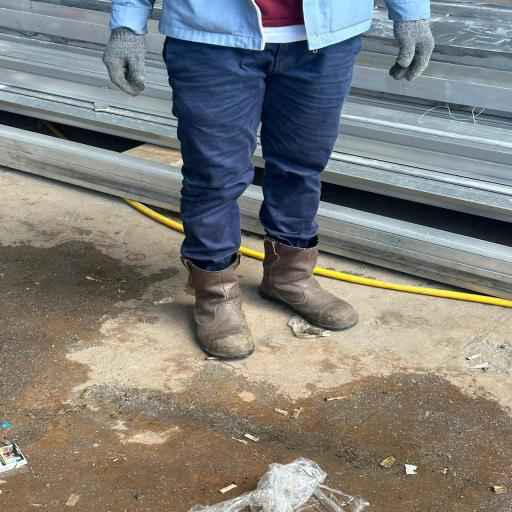safety_shoe: (251, 221, 368, 335), (164, 252, 267, 366)
